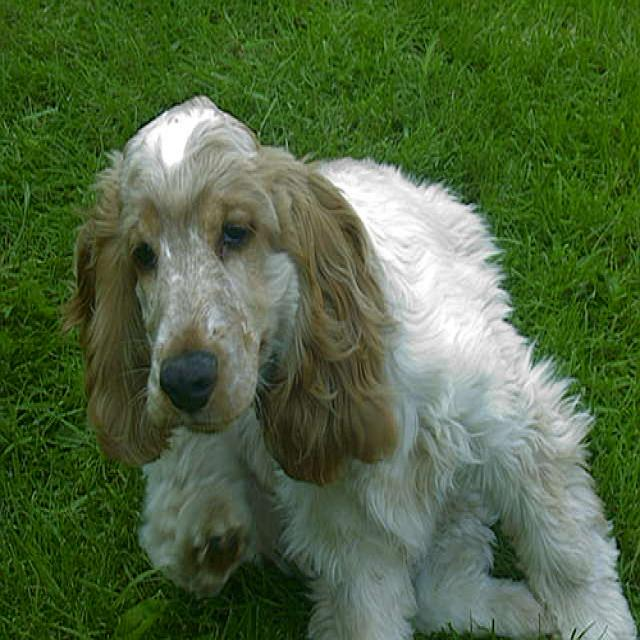dog-english_cocker_spaniel: (65, 80, 637, 637)
